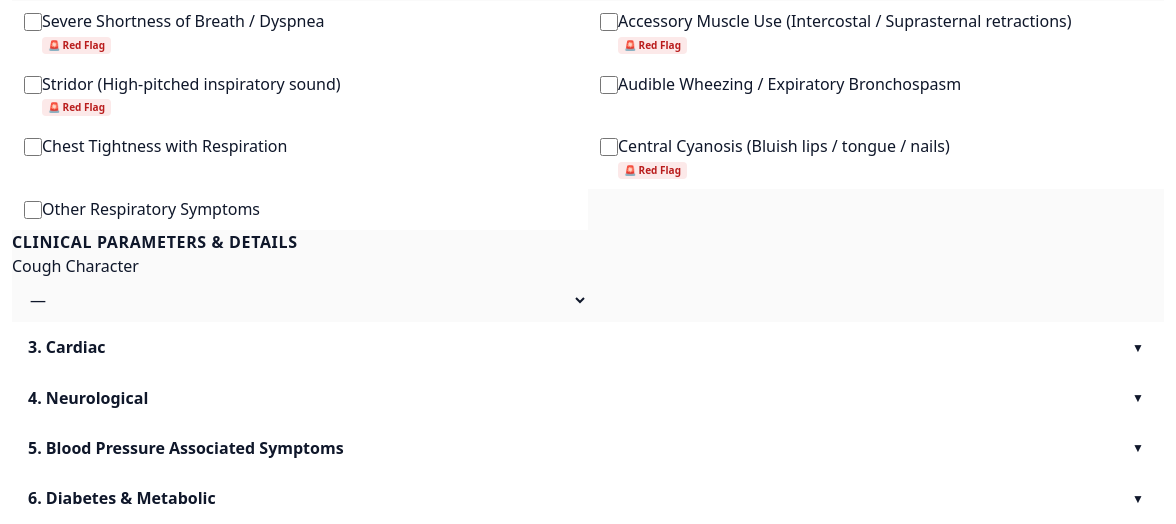
Test case: Clinical Symptoms Checklist Module (Step 2) › Component Rendering & Interactive Accordion Behaviors › toggles accordion expansion when header button is clicked
(page scrolled)
Click the button "3. Cardiac ▼": (67, 347) [12, 322, 1164, 373]
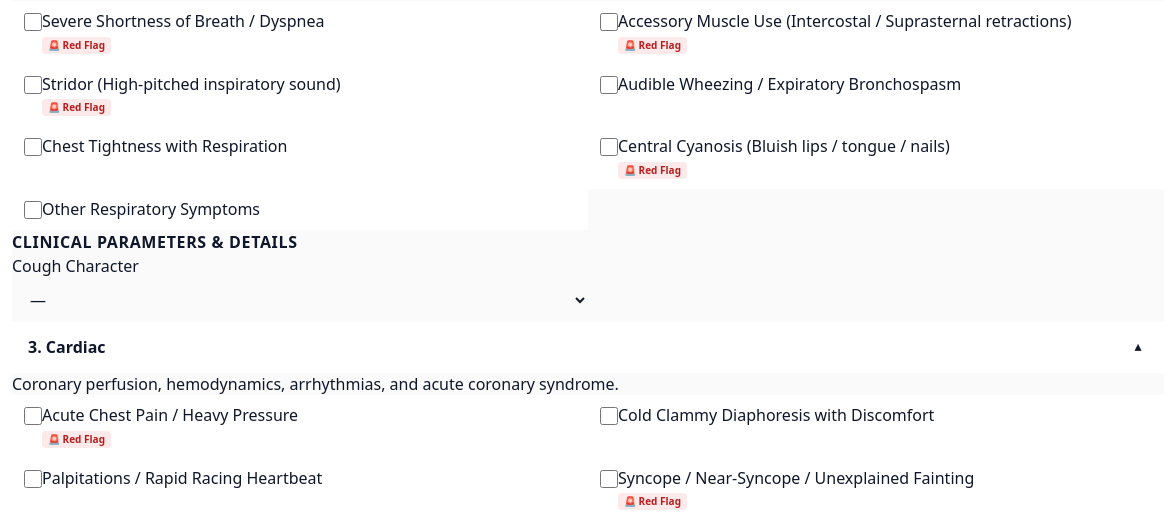
Expected: the button "3. Cardiac ▼" is expanded
Click the button "3. Cardiac ▼": (67, 347) [12, 322, 1164, 373]
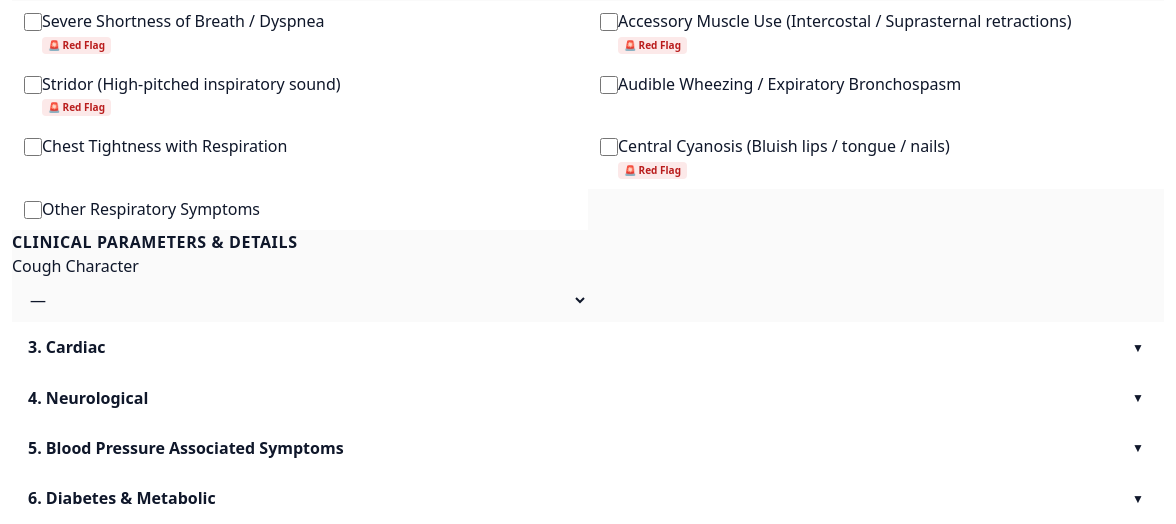
Expected: the button "3. Cardiac ▼" is collapsed, [12, 322, 1164, 373]
